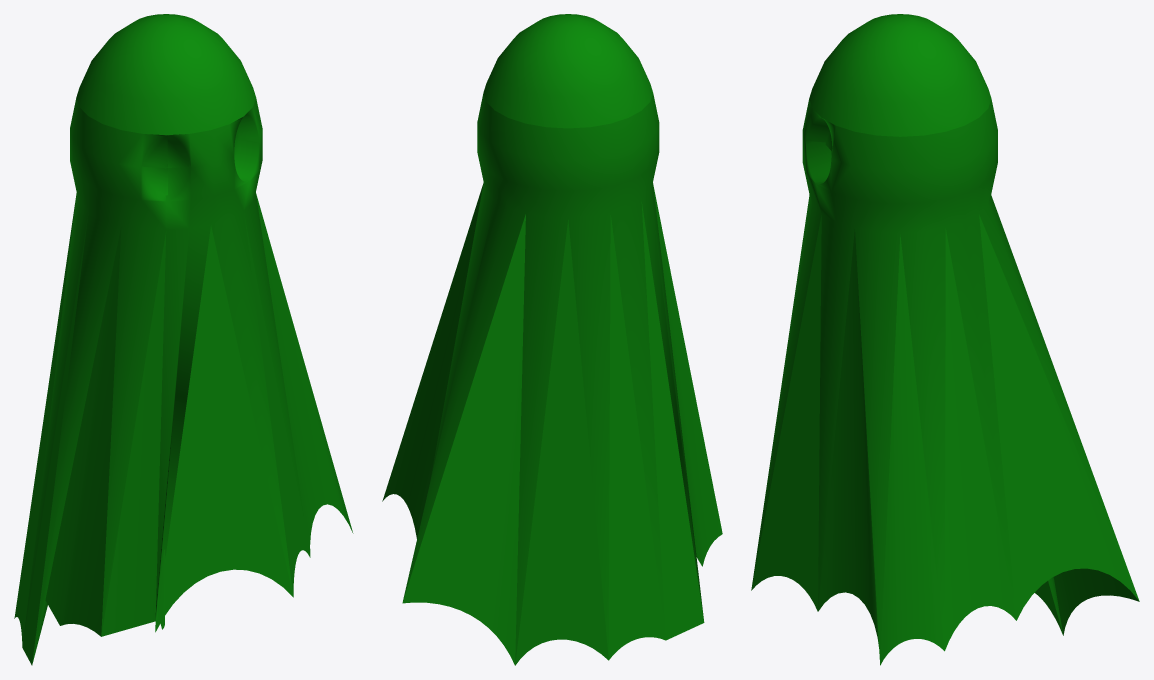
The picture shows the model from 3 angles, left to right: view 1: azimuth 30°, elevation 25°; view 2: azimuth 150°, elevation 25°; view 3: azimuth 270°, elevation 25°; orthographic projection. The views are drawn at different scales.
Visible parts, largest first — view 1: Layer0_001; view 2: Layer0_001; view 3: Layer0_001.
Boxes of the visible parts, box(x1,y1,x2,y2) form: Layer0_001: box(14, 14, 353, 665); Layer0_001: box(382, 14, 722, 665); Layer0_001: box(751, 14, 1139, 665).
Size of the model in its own units: 247 by 462 by 259.
